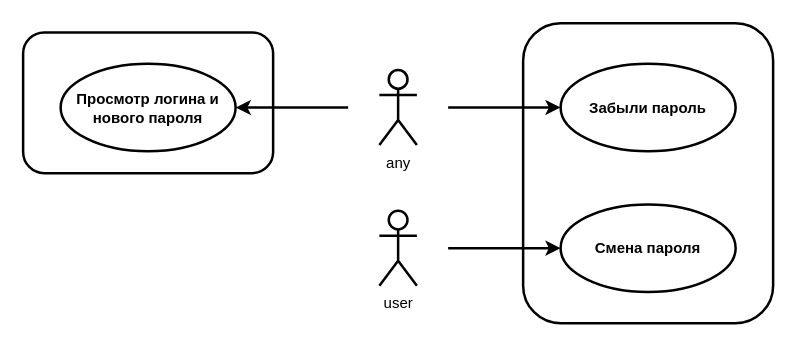
Some shapes in this 795 by 345 pixel diagram are drawn without their labels. Each missing label, with the box of its shape:
Мобильное приложение: (521, 21, 774, 324)
Электронная почта: (21, 31, 274, 174)
